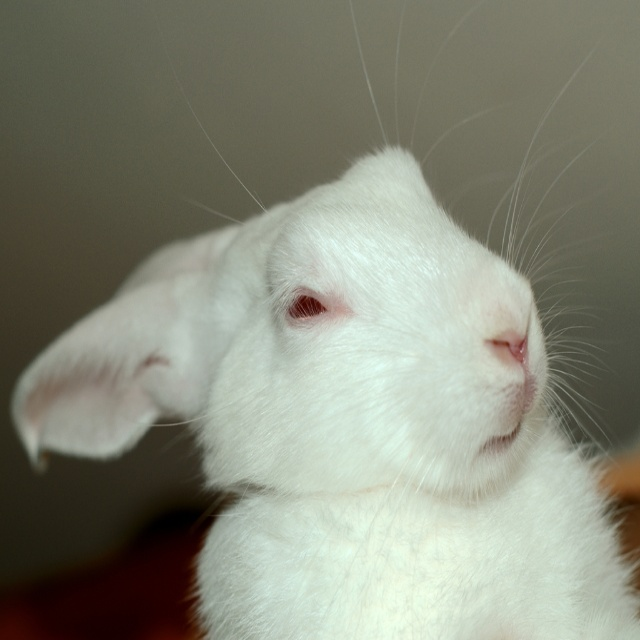Rabbit: (13, 3, 640, 639)
